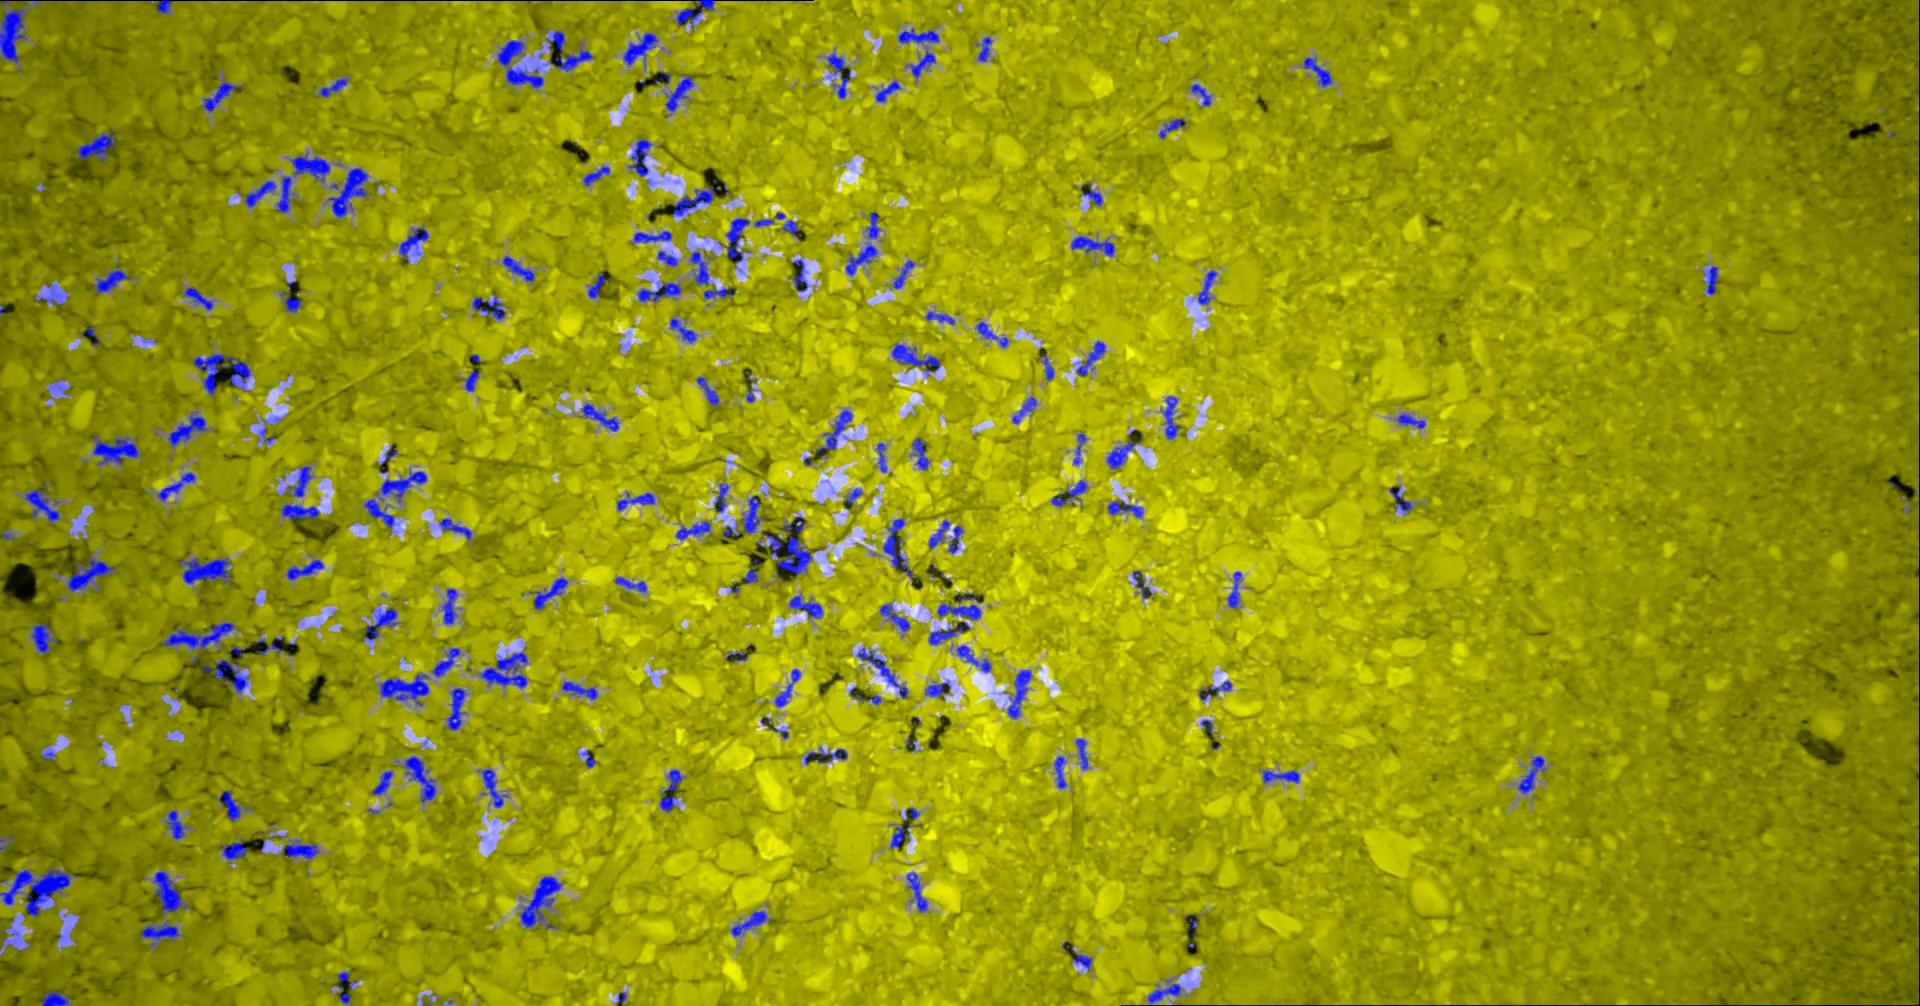ant: (364, 471, 425, 530), (764, 516, 811, 575), (857, 647, 907, 699), (192, 353, 250, 394), (497, 39, 543, 86), (519, 876, 561, 927), (328, 166, 367, 217), (163, 622, 234, 650), (883, 518, 913, 580), (546, 30, 592, 71), (815, 409, 852, 457), (670, 184, 728, 215), (480, 652, 527, 687), (67, 556, 116, 591), (201, 659, 248, 694), (378, 673, 428, 705), (891, 343, 938, 375), (404, 756, 436, 801), (91, 434, 138, 465), (152, 871, 185, 915), (0, 8, 25, 64), (178, 558, 231, 583), (168, 412, 206, 446), (76, 130, 114, 161), (202, 81, 241, 112), (937, 592, 982, 619), (1007, 669, 1031, 718), (290, 151, 329, 180), (580, 401, 618, 431), (157, 471, 196, 500), (477, 768, 507, 807), (623, 32, 657, 65), (844, 243, 877, 276), (24, 489, 58, 521), (533, 577, 568, 608), (664, 74, 693, 111), (825, 53, 850, 98), (1517, 754, 1545, 793), (397, 227, 428, 262), (725, 218, 749, 262), (93, 265, 130, 293), (363, 608, 396, 639), (1076, 340, 1105, 375), (676, 0, 714, 25), (775, 668, 800, 706), (659, 768, 682, 810), (730, 909, 766, 936), (1070, 235, 1114, 257), (928, 621, 969, 644), (138, 922, 179, 945), (1051, 479, 1086, 506), (956, 645, 990, 672), (430, 647, 460, 677), (446, 687, 466, 730), (907, 47, 935, 77), (1106, 439, 1137, 467), (879, 603, 909, 631), (244, 180, 276, 207), (629, 138, 651, 175), (502, 255, 535, 281), (974, 321, 1007, 347), (1147, 979, 1180, 1005), (471, 295, 505, 319), (637, 282, 681, 301), (905, 873, 927, 911), (1303, 57, 1331, 86), (30, 622, 57, 653), (1161, 396, 1180, 438), (789, 594, 822, 619), (284, 559, 323, 579), (290, 465, 312, 497), (616, 492, 654, 511), (803, 747, 846, 763), (183, 286, 212, 310), (897, 27, 938, 43), (742, 495, 759, 533), (281, 502, 319, 520), (696, 376, 717, 406), (218, 790, 240, 821), (439, 518, 471, 539), (1012, 396, 1036, 423), (891, 260, 914, 288), (561, 681, 597, 699), (282, 840, 317, 857), (690, 251, 709, 285), (1197, 271, 1217, 304), (1197, 680, 1230, 699), (669, 318, 695, 342), (676, 521, 710, 539), (759, 718, 789, 738), (164, 810, 184, 840), (875, 79, 900, 102), (34, 283, 62, 304), (928, 520, 949, 547), (220, 838, 248, 859), (1107, 500, 1142, 517), (790, 259, 808, 291), (910, 437, 928, 469), (276, 175, 291, 212), (1388, 486, 1411, 511), (1158, 118, 1185, 138), (583, 165, 610, 185), (615, 575, 646, 592), (441, 588, 456, 622), (371, 770, 392, 794), (630, 230, 670, 243), (319, 77, 345, 97), (1131, 570, 1150, 597), (1227, 572, 1241, 607), (1190, 83, 1211, 105), (703, 283, 735, 298), (587, 272, 604, 298), (1262, 770, 1299, 782), (258, 636, 283, 654), (1396, 413, 1425, 428), (39, 989, 69, 1005), (890, 826, 909, 848), (1073, 433, 1087, 464), (947, 525, 963, 553), (80, 323, 98, 345), (1703, 265, 1717, 293), (714, 483, 728, 511), (1054, 754, 1065, 788), (924, 682, 949, 697), (337, 970, 357, 988), (977, 36, 990, 61), (1076, 738, 1087, 768), (866, 211, 879, 238), (782, 218, 800, 238), (844, 488, 861, 508), (924, 311, 954, 323), (1081, 189, 1102, 205), (463, 370, 479, 391), (1040, 354, 1053, 380), (378, 447, 396, 465), (1072, 953, 1091, 969), (657, 250, 677, 265), (876, 442, 886, 473), (284, 296, 301, 312), (1185, 915, 1197, 935), (582, 749, 596, 767), (156, 0, 174, 13), (743, 568, 757, 583), (904, 807, 919, 821), (725, 652, 747, 661), (723, 525, 739, 536), (229, 645, 245, 657), (339, 991, 350, 1005)
